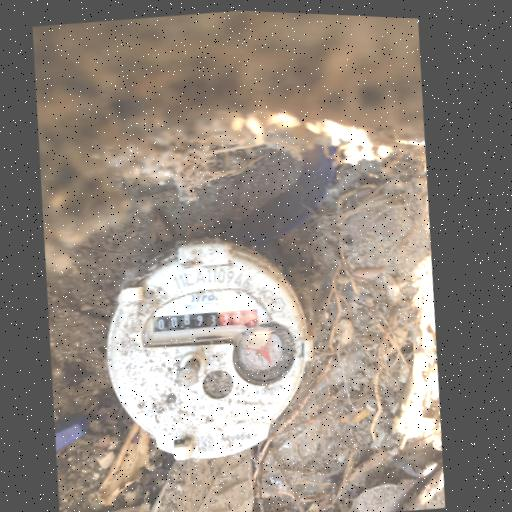0: (154, 315, 167, 332), (168, 314, 181, 331)
3: (218, 310, 233, 327), (206, 311, 220, 328)
4: (244, 310, 260, 329)
7: (231, 309, 245, 326)
8: (180, 313, 194, 331)
9: (193, 312, 206, 329)
border_water_meter_number: (150, 304, 259, 340)
